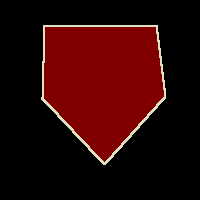tie: (42, 25, 165, 164)
